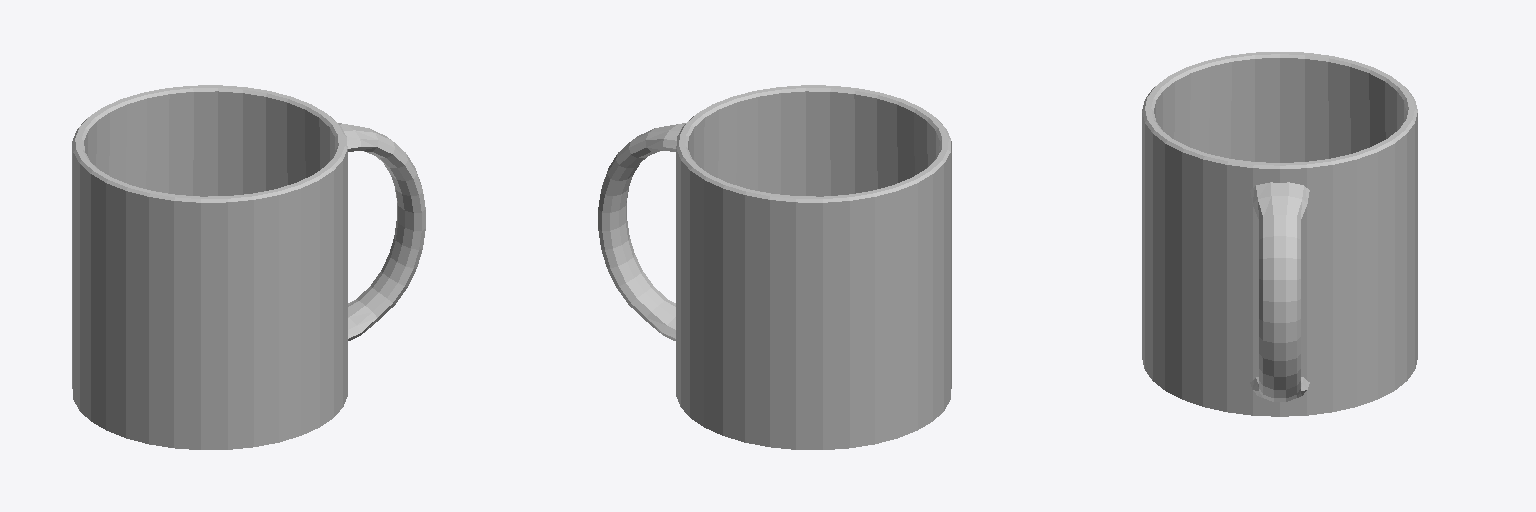
The model's file is Mug.obj.
The picture shows the model from 3 angles: view 1: azimuth 30°, elevation 25°; view 2: azimuth 150°, elevation 25°; view 3: azimuth 270°, elevation 25°; orthographic projection.
Visible parts, largest first — view 1: Mug_Q; view 2: Mug_Q; view 3: Mug_Q.
Part boxes in pixels (bbox=[...]): Mug_Q: bbox=[72, 85, 425, 449]; Mug_Q: bbox=[598, 85, 951, 449]; Mug_Q: bbox=[1142, 52, 1417, 416].
Bounding box in the file's own units: 0.136 × 0.0982 × 0.0982.